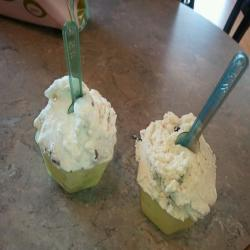icecream: (137, 114, 217, 223), (33, 81, 118, 168)
